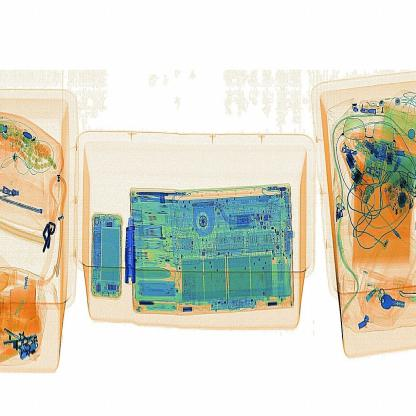pliers: (120, 207, 146, 287)
